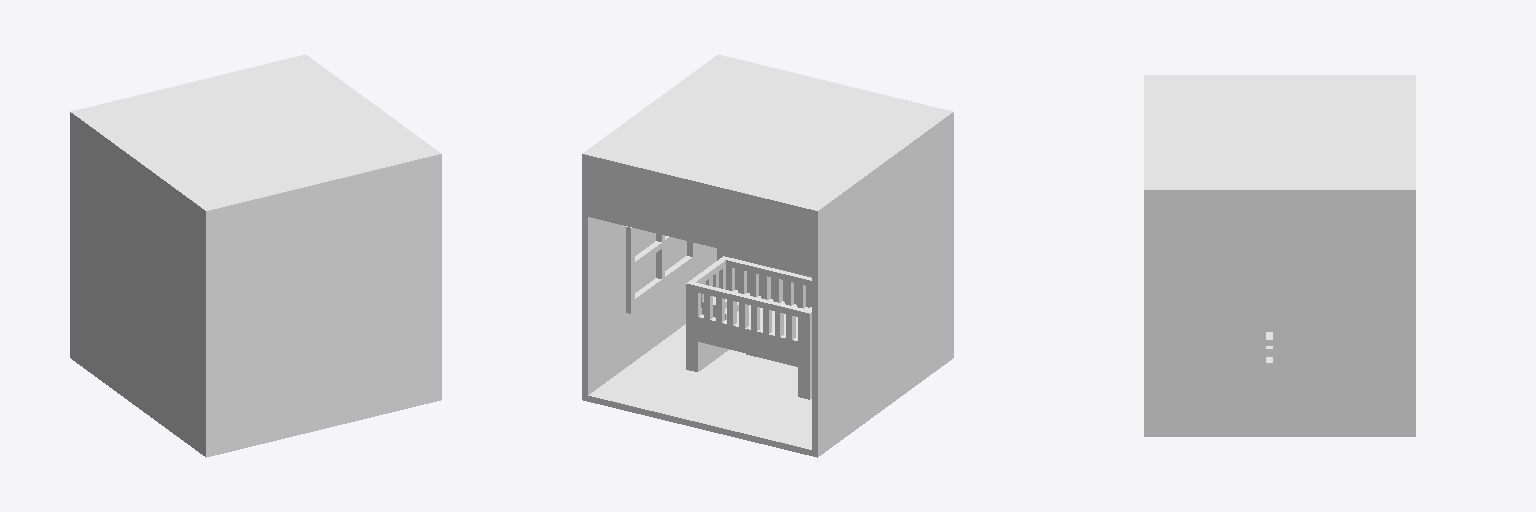
Rendered from cuna.obj.
3 renders of one model, left to right at view 1: azimuth 30°, elevation 25°; view 2: azimuth 150°, elevation 25°; view 3: azimuth 270°, elevation 25°, orthographic.
Parts seen in each view (by area): view 1: object 1; view 2: object 1; view 3: object 1.
Part boxes in pixels (bbox=[...]): object 1: bbox=[70, 54, 441, 457]; object 1: bbox=[582, 54, 953, 457]; object 1: bbox=[1144, 75, 1415, 436].
Size of the model in its own units: 4 by 4 by 4.